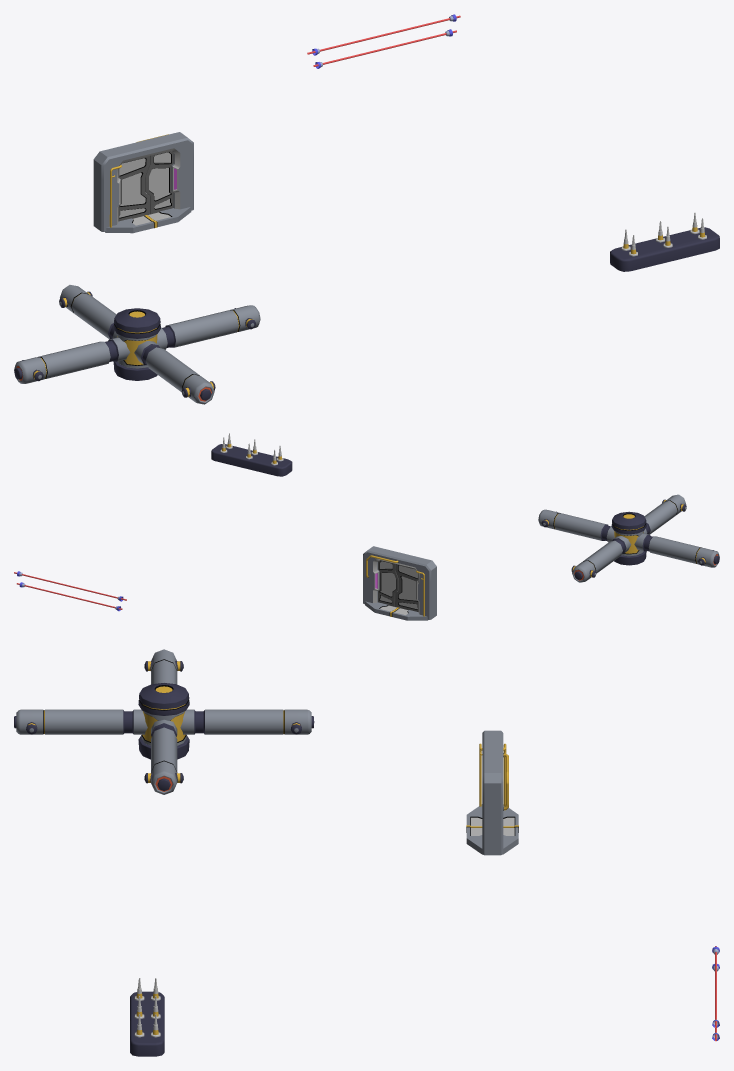
The picture shows the model from 3 angles, top to bottom: view 1: azimuth 30°, elevation 25°; view 2: azimuth 150°, elevation 25°; view 3: azimuth 270°, elevation 25°; orthographic projection. The views are drawn at different scales.
Parts seen in each view (by area): view 1: pCylinder14 (×4), Base (×2), pCylinder13, Right, Left, Base5; view 2: pCylinder14 (×4), Base (×2), pCylinder13, Right, Left, Base5; view 3: pCylinder14 (×4), Base (×2), pCylinder13, Base5.
Part boxes in pixels (<box>): pCylinder14 (×4): <box>14,285,260,404</box>; Base (×2): <box>93,132,719,271</box>; pCylinder13: <box>113,308,160,380</box>; Right: <box>118,156,150,221</box>; Left: <box>145,151,173,214</box>; Base5: <box>105,207,191,233</box>; pCylinder14 (×4): <box>538,494,719,582</box>; Base (×2): <box>211,444,436,619</box>; pCylinder13: <box>611,511,646,565</box>; Right: <box>395,564,418,611</box>; Left: <box>378,560,398,606</box>; Base5: <box>365,601,428,620</box>; pCylinder14 (×4): <box>14,649,314,794</box>; Base (×2): <box>130,730,503,1056</box>; pCylinder13: <box>138,683,189,759</box>; Base5: <box>466,804,518,854</box>.
Size of the model in its own units: 412 by 45.92 by 334.
